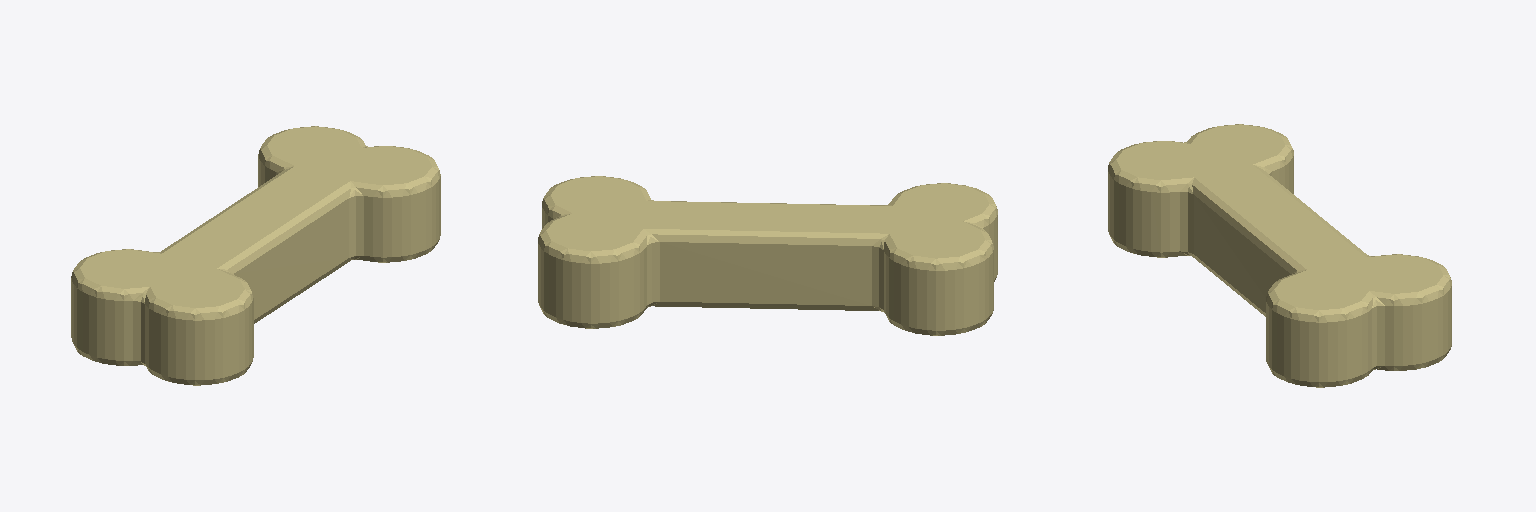
Rendered from Bone.obj.
3 renders of one model, left to right at view 1: azimuth 30°, elevation 25°; view 2: azimuth 150°, elevation 25°; view 3: azimuth 270°, elevation 25°, orthographic.
Visible parts, largest first — view 1: Cube.047_Cube.031; view 2: Cube.047_Cube.031; view 3: Cube.047_Cube.031.
Boxes of the visible parts, <box> form: Cube.047_Cube.031: <box>71,126,440,385</box>; Cube.047_Cube.031: <box>538,176,997,335</box>; Cube.047_Cube.031: <box>1108,124,1451,387</box>.
Bounding box in the file's own units: 27.17 × 5.07 × 20.47.